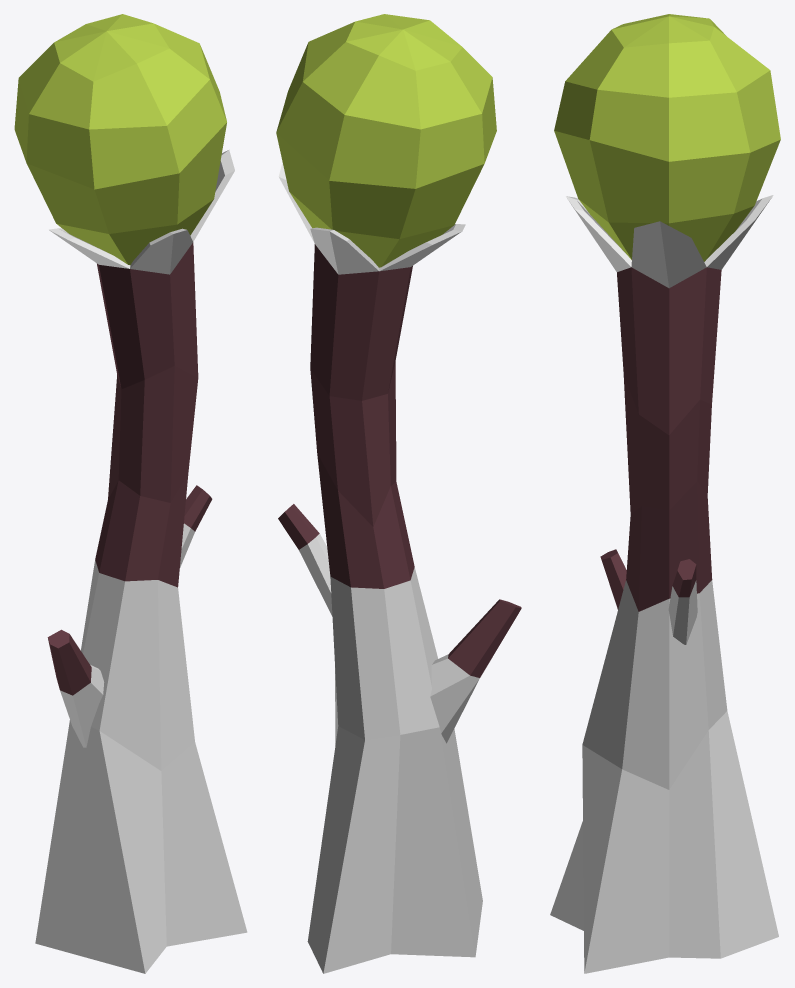
The model's file is scifi-tree-orb-medium.fbx.
3 views of the same model, side by side, from view 1: azimuth 30°, elevation 25°; view 2: azimuth 150°, elevation 25°; view 3: azimuth 270°, elevation 25° (orthographic).
Parts seen in each view (by area): view 1: scifi-tree-orb-medium; view 2: scifi-tree-orb-medium; view 3: scifi-tree-orb-medium.
Part boxes in pixels (box(x1,y1,x2,y2)): scifi-tree-orb-medium: box(14, 14, 247, 973); scifi-tree-orb-medium: box(276, 14, 521, 973); scifi-tree-orb-medium: box(550, 14, 780, 973).
Size of the model in its own units: 0.9022 by 3.77 by 0.8679.
